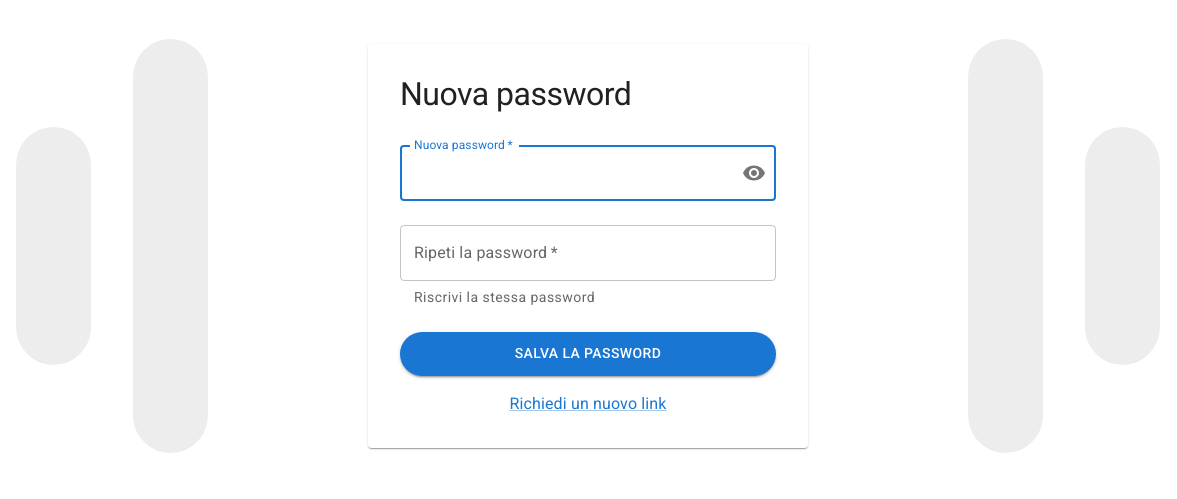
ResetPassword: conferma con riga riservata › una password fuori regola resta nell'avviso in alto, prima del controllo sulla conferma
Type "corta" into the password field labelled "Nuova password *" at coordinates (563, 173), box left=400, top=145, right=726, bottom=201
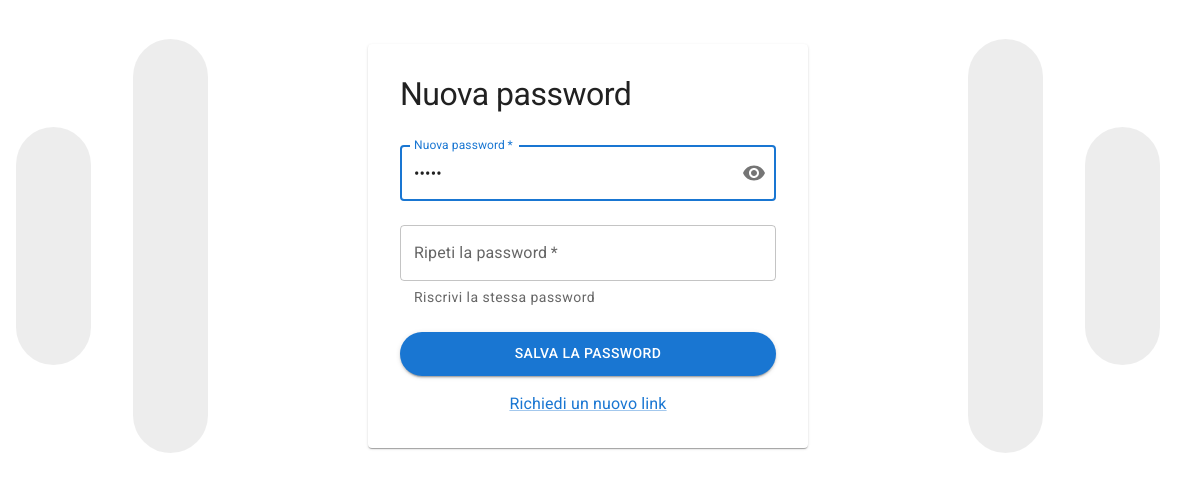
Type "corta2" into the password field labelled "Ripeti la password *" at coordinates (588, 253), box left=400, top=225, right=776, bottom=281
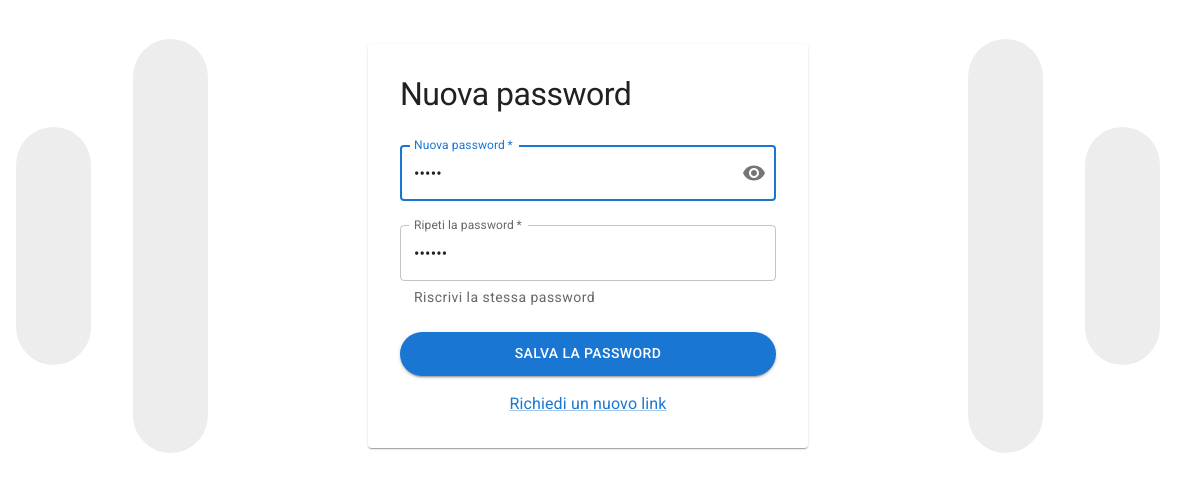
Click the button "Salva la password" at coordinates (588, 354), box left=400, top=332, right=776, bottom=376
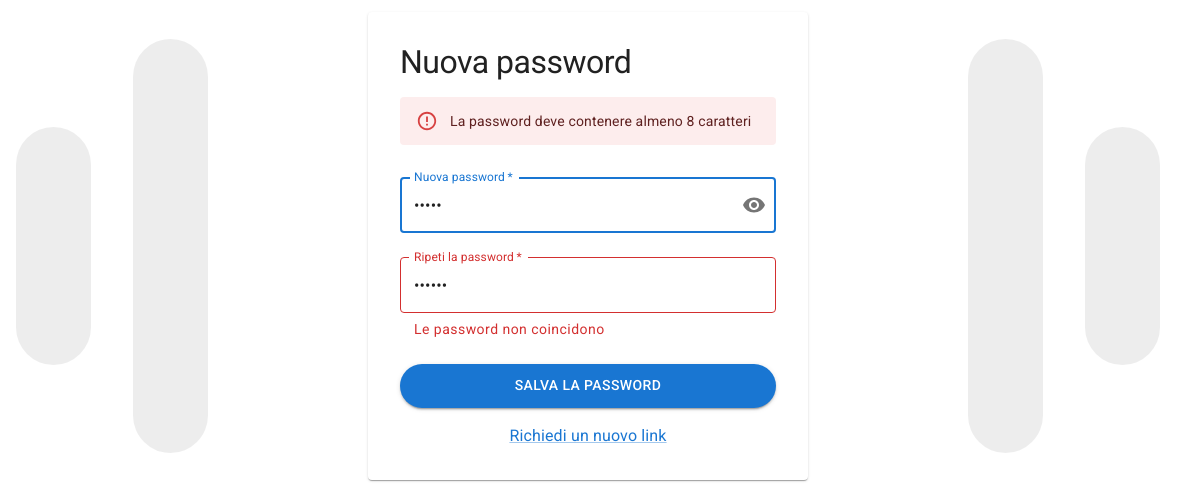
Now the message reads "La password deve contenere almeno 8 caratteri", box left=450, top=113, right=751, bottom=129
